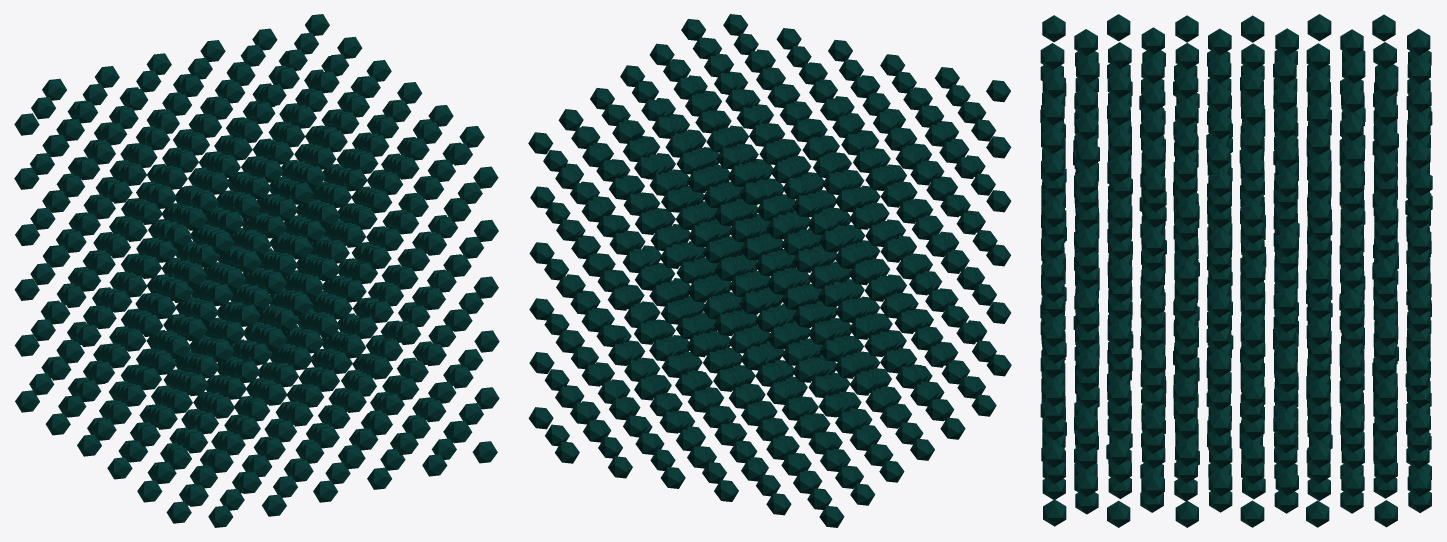
The model's file is research_al.glb.
3 views of the same model, side by side, from view 1: azimuth 30°, elevation 25°; view 2: azimuth 150°, elevation 25°; view 3: azimuth 270°, elevation 25° (orthographic). The views are drawn at different scales.
Size of the model in its own units: 23.87 by 23.9 by 23.92.
